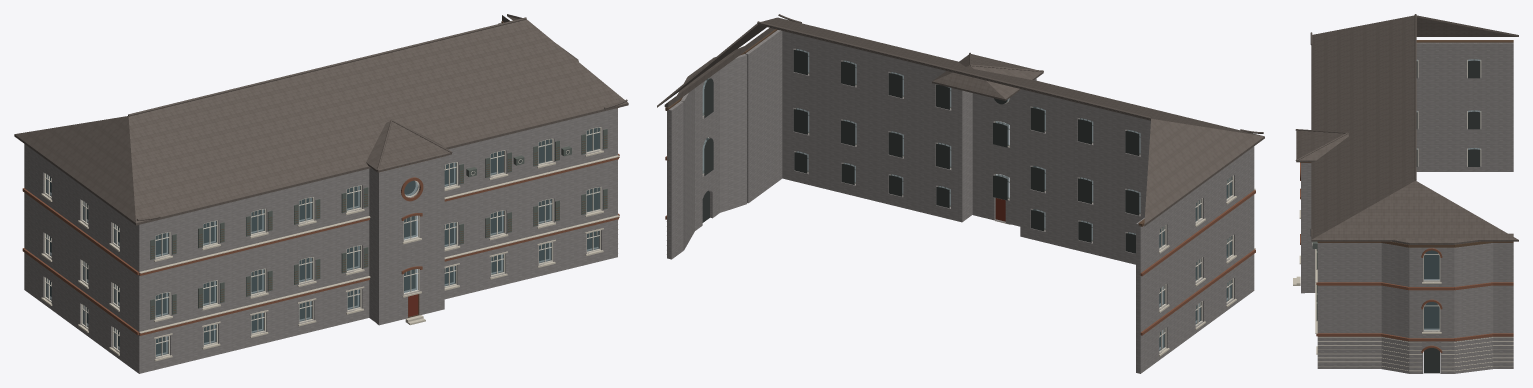
Rendered from changning-st-johns-mann-hall-river-front-web.glb.
3 views of the same model, side by side, from view 1: azimuth 30°, elevation 25°; view 2: azimuth 150°, elevation 25°; view 3: azimuth 270°, elevation 25° (orthographic). The views are drawn at different scales.
Visible parts, largest first — view 1: 圣约翰大学思孟堂43号楼临河窗墙; view 2: 圣约翰大学思孟堂43号楼临河窗墙; view 3: 圣约翰大学思孟堂43号楼临河窗墙.
Part boxes in pixels (x1=…): 圣约翰大学思孟堂43号楼临河窗墙: x1=14, y1=14, x2=628, y2=373; 圣约翰大学思孟堂43号楼临河窗墙: x1=657, y1=14, x2=1264, y2=373; 圣约翰大学思孟堂43号楼临河窗墙: x1=1293, y1=14, x2=1518, y2=373.
Bounding box in the file's own units: 39.29 × 15.72 × 18.05.
10 materials, 2 textured.
